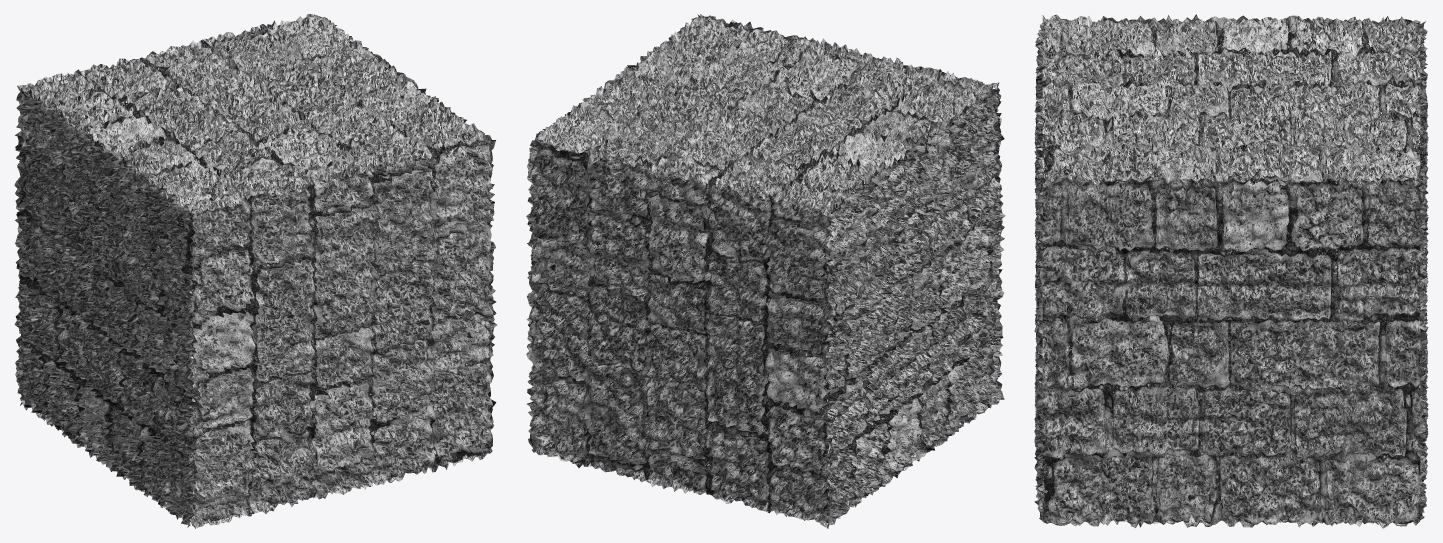
The picture shows the model from 3 angles, left to right: view 1: azimuth 30°, elevation 25°; view 2: azimuth 150°, elevation 25°; view 3: azimuth 270°, elevation 25°; orthographic projection. The views are drawn at different scales.
Parts seen in each view (by area): view 1: 1024stone_1; view 2: 1024stone_1; view 3: 1024stone_1.
Boxes of the visible parts, x1,y1,x2,y2 form: 1024stone_1: (14,14,496,528); 1024stone_1: (526,14,1005,528); 1024stone_1: (1034,14,1428,528).
Bounding box in the file's own units: 104 × 104 × 104.
